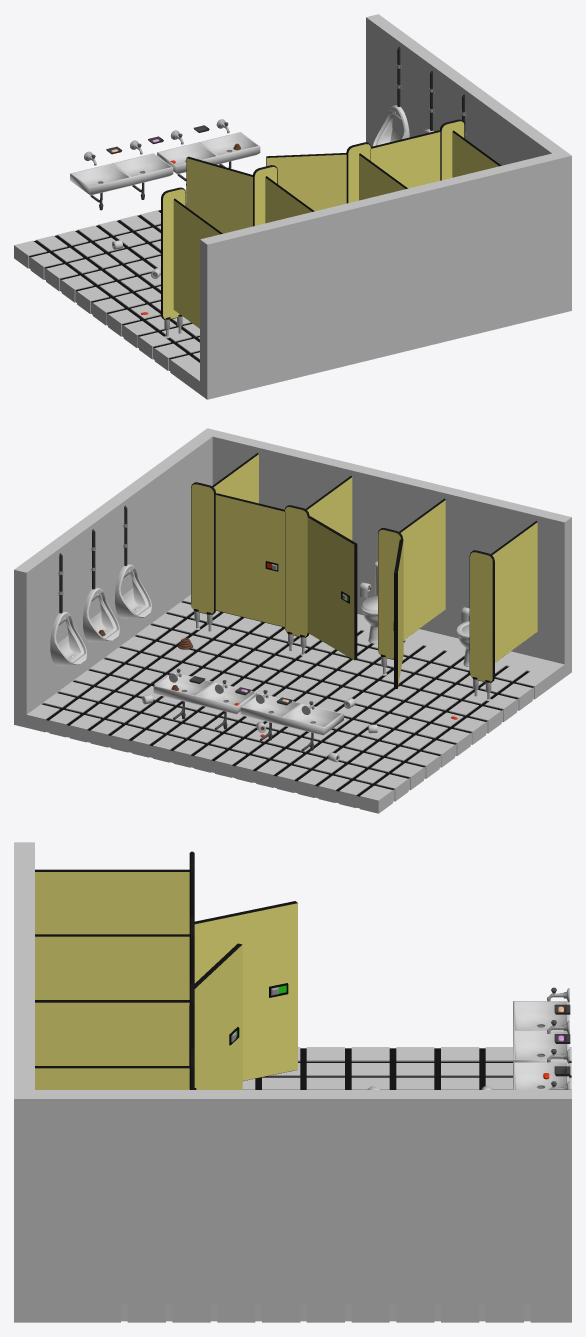
Rendered from toilet.gltf.
3 renders of one model, top to bottom at view 1: azimuth 30°, elevation 25°; view 2: azimuth 150°, elevation 25°; view 3: azimuth 270°, elevation 25°, orthographic. The views are drawn at different scales.
Parts seen in each view (by area): view 1: Object_4, Object_75, Object_79, Object_101, Object_83, Object_108, Object_111, Object_90, Object_99, Object_105, Object_103, Object_44 (+3 smaller); view 2: Object_4, Object_83, Object_79, Object_99, Object_101, Object_90, Object_96, Object_93, Object_108, Object_111, Object_87, Object_103 (+5 smaller); view 3: Object_4, Object_75, Object_99, Object_101, Object_103, Object_79, Object_105, Object_108, Object_111.
Part boxes in pixels (bbox=[...]): Object_4: bbox=[14, 14, 571, 399]; Object_75: bbox=[186, 156, 253, 233]; Object_79: bbox=[266, 153, 346, 211]; Object_101: bbox=[173, 198, 222, 328]; Object_83: bbox=[370, 130, 440, 188]; Object_108: bbox=[70, 153, 173, 210]; Object_111: bbox=[157, 132, 260, 185]; Object_90: bbox=[161, 187, 185, 319]; Object_99: bbox=[265, 176, 314, 223]; Object_105: bbox=[452, 130, 501, 177]; Object_103: bbox=[359, 153, 407, 200]; Object_44: bbox=[373, 47, 409, 146]; Object_4: bbox=[14, 428, 571, 813]; Object_83: bbox=[215, 493, 285, 627]; Object_79: bbox=[307, 516, 357, 660]; Object_99: bbox=[399, 498, 445, 639]; Object_101: bbox=[491, 521, 537, 662]; Object_90: bbox=[469, 550, 494, 682]; Object_96: bbox=[191, 482, 216, 614]; Object_93: bbox=[284, 505, 309, 637]; Object_108: bbox=[240, 693, 343, 751]; Object_111: bbox=[153, 672, 256, 729]; Object_87: bbox=[378, 528, 402, 659]; Object_103: bbox=[305, 476, 352, 540]; Object_4: bbox=[14, 842, 571, 1322]; Object_75: bbox=[194, 901, 297, 1080]; Object_99: bbox=[35, 934, 189, 999]; Object_101: bbox=[35, 869, 189, 934]; Object_103: bbox=[35, 1000, 189, 1065]; Object_79: bbox=[194, 943, 242, 1089]; Object_105: bbox=[35, 1066, 189, 1089]; Object_108: bbox=[513, 1001, 569, 1062]; Object_111: bbox=[513, 1062, 569, 1089].
Size of the model in its own units: 8.71 by 3.62 by 8.
Materials: 2 (2 with a texture image).
